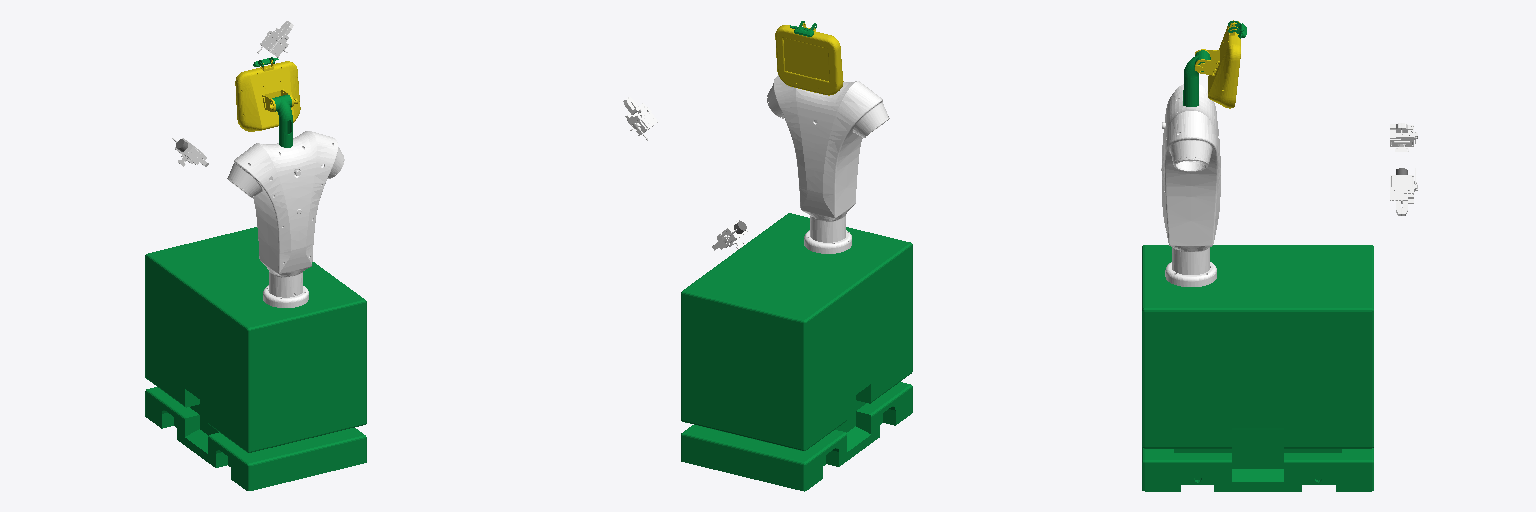
--- What the picture shows (computed from the rendered views, not written in the file) ---
3 views of the same robot in one strip: view 1: azimuth 30°, elevation 25°; view 2: azimuth 150°, elevation 25°; view 3: azimuth 270°, elevation 25° (orthographic).
Model ur5e_robot with 47 links and 46 joints (12 revolute, 4 prismatic, 30 fixed), rooted at world, posed every joint at zero.
Visible links, largest first — view 1: base_link, body_base_link, head_link, bozi_link; view 2: base_link, body_base_link, head_link; view 3: base_link, body_base_link, head_link, bozi_link, left_dh_base_link.
Boxes of the visible links, <box> form: base_link: <box>145,227,366,490</box>; body_base_link: <box>227,131,344,307</box>; head_link: <box>235,60,300,131</box>; bozi_link: <box>270,94,292,147</box>; base_link: <box>681,213,912,491</box>; body_base_link: <box>767,75,889,253</box>; head_link: <box>775,23,843,95</box>; base_link: <box>1142,245,1373,491</box>; body_base_link: <box>1161,84,1220,286</box>; head_link: <box>1195,20,1240,108</box>; bozi_link: <box>1183,50,1210,106</box>; left_dh_base_link: <box>1390,168,1417,198</box>.
Size in the robot's own frame: 0.8029 by 1.07 by 1.86 metres.
13 mesh visuals loaded from 16 distinct referenced files (9 binary STL); not drawn: 14 (reference not matched to a file when rendering).

The robot description file, URDF, robot "ur5e_robot":
<?xml version="1.0" ?>
<!-- =================================================================================== -->
<!-- |    This document was autogenerated by xacro from [local-path]/B_workspace/dual_robot/src/dual_arm/arm_robot/arm_robot_description/urdf/dual_arm_robot.xacro | -->
<!-- |    EDITING THIS FILE BY HAND IS NOT RECOMMENDED                                 | -->
<!-- =================================================================================== -->
<robot name="ur5e_robot">
    <material name="grey">
        <color rgba="0.5 0.5 0.5 1.0" />
    </material>
    <link name="world" />
    <link name="body_base_link">
        <inertial>
            <origin rpy="0 0 0" xyz="-1.72E-06 -0.00094189 0.44814" />
            <mass value="5.3997" />
            <inertia ixx="0.18584" ixy="-3.9082E-07" ixz="-1.5348E-07" iyy="0.24302" iyz="-4.7491E-05" izz="0.069032" />
        </inertial>
        <visual>
            <origin rpy="0 0 0" xyz="0 0 0" />
            <geometry>
                <mesh filename="package://ur_gazebo/meshes/body/body_link.STL" />
            </geometry>
            <material name="">
                <color rgba="1 1 1 1" />
            </material>
        </visual>
        <collision>
            <origin rpy="0 0 0" xyz="0 0 0" />
            <geometry>
                <mesh filename="package://ur_gazebo/meshes/body/body_link.STL" />
            </geometry>
        </collision>
    </link>
    <link name="body_right_base_link">
        <inertial>
            <origin rpy="0 0 0" xyz="1.446E-05 0.063848 -0.00090827" />
            <mass value="0.65565" />
            <inertia ixx="0.0011999" ixy="5.6587E-07" ixz="8.9252E-08" iyy="0.001589" iyz="-2.2042E-05" izz="0.001245" />
        </inertial>
        <!-- <visual>
      <origin
        xyz="0 0 0"
        rpy="0 0 0" />
      <geometry>
        <mesh
          filename="package://ur_gazebo/meshes/body/meshes/right_arm_fixed_link.STL" />
      </geometry>
      <material
        name="">
        <color
          rgba="1 1 1 1" />
      </material>
    </visual>
    <collision>
      <origin
        xyz="0 0 0"
        rpy="0 0 0" />
      <geometry>
        <mesh
          filename="package://ur_gazebo/meshes/body/meshes/right_arm_fixed_link.STL" />
      </geometry>
    </collision> -->
    </link>
    <joint name="right_arm_fixed_joint" type="fixed">
        <origin rpy="-0.95532 -0.5236 2.1863" xyz="-0.17475 0 0.64111" />
        <parent link="body_base_link" />
        <child link="body_right_base_link" />
        <axis xyz="0 0 0" />
    </joint>
    <link name="body_left_base_link">
        <inertial>
            <origin rpy="0 0 0" xyz="1.446E-05 0.053848 -0.00090827" />
            <mass value="0.65565" />
            <inertia ixx="0.0011999" ixy="5.6587E-07" ixz="8.9252E-08" iyy="0.001589" iyz="-2.2042E-05" izz="0.001245" />
        </inertial>
        <!-- <visual>
      <origin
        xyz="0 0 0"
        rpy="0 0 0" />
      <geometry>
        <mesh
          filename="package://ur_gazebo/meshes/body/meshes/left_arm_fixed_link.STL" />
      </geometry>
      <material
        name="">
        <color
          rgba="1 1 1 1" />
      </material>
    </visual>
    <collision>
      <origin
        xyz="0 0 0"
        rpy="0 0 0" />
      <geometry>
        <mesh
          filename="package://ur_gazebo/meshes/body/meshes/left_arm_fixed_link.STL" />
      </geometry>
    </collision> -->
    </link>
    <joint name="left_arm_fixed_joint" type="fixed">
        <origin rpy="-0.95532 0.5236 -2.1863" xyz="0.18182 0 0.63404" />
        <parent link="body_base_link" />
        <child link="body_left_base_link" />
        <axis xyz="0 0 0" />
    </joint>
    <link name="bozi_link">
        <inertial>
            <origin rpy="0 0 0" xyz="-0.02368 -0.062099 -0.0468" />
            <mass value="0.5717" />
            <inertia ixx="0.0043319" ixy="-0.0007239" ixz="-3.3674E-09" iyy="0.00074141" iyz="2.8419E-09" izz="0.0044017" />
        </inertial>
        <visual>
            <origin rpy="0 0 0" xyz="0 0 0" />
            <geometry>
                <mesh filename="package://ur_gazebo/meshes/body/bozi_link.STL" />
            </geometry>
            <material name="">
                <color rgba="0.066667 0.6 0.29804 1" />
            </material>
        </visual>
        <collision>
            <origin rpy="0 0 0" xyz="0 0 0" />
            <geometry>
                <mesh filename="package://ur_gazebo/meshes/body/bozi_link.STL" />
            </geometry>
        </collision>
    </link>
    <joint name="bozi_joint" type="fixed">
        <origin rpy="1.5708 0 -1.5708" xyz="-0.0468 -0.045 0.91925" />
        <parent link="body_base_link" />
        <child link="bozi_link" />
        <axis xyz="0 0 0" />
    </joint>
    <joint name="body_base_joint" type="fixed">
        <parent link="world" />
        <child link="body_base_link" />
        <origin rpy="0 0 3.1415926" xyz="0 0 0" />
        <axis xyz="0 0 0" />
    </joint>
    <!-- 对于底座的描述 -->
    <link name="base_link">
        <inertial>
            <origin rpy="0 0 0" xyz="-1.4069E-17 0 0.40258" />
            <mass value="400.99" />
            <inertia ixx="46.843" ixy="-1.8381E-16" ixz="-1.5044E-15" iyy="31.456" iyz="2.1237E-15" izz="38.411" />
        </inertial>
        <visual>
            <origin rpy="0 0 0" xyz="0 0 0" />
            <geometry>
                <mesh filename="package://ur_gazebo/meshes/base/base_link.STL" />
            </geometry>
            <material name="">
                <color rgba="0.066667 0.6 0.29804 1" />
            </material>
        </visual>
        <collision>
            <origin rpy="0 0 0" xyz="0 0 0" />
            <geometry>
                <mesh filename="package://ur_gazebo/meshes/base/base_link.STL" />
            </geometry>
        </collision>
    </link>
    <!-- ################################### -->
    <joint name="base_joint" type="fixed">
        <parent link="world" />
        <child link="base_link" />
        <origin rpy="0.0 0.0 0.0" xyz="0 0.26 -0.78" />
    </joint>
    <link name="head_link">
        <inertial>
            <origin rpy="0 0 0" xyz="0.10509 0.0025699 -0.046837" />
            <mass value="2.8418" />
            <inertia ixx="0.02624" ixy="-0.00030059" ixz="-2.3615E-08" iyy="0.016373" iyz="4.8178E-07" izz="0.011367" />
        </inertial>
        <visual>
            <origin rpy="0 0 0" xyz="0 0 0" />
            <geometry>
                <mesh filename="package://ur_gazebo/meshes/head/head_link.STL" />
            </geometry>
            <material name="">
                <color rgba="0.89804 0.82745 0.11765 1" />
            </material>
        </visual>
        <collision>
            <origin rpy="0 0 0" xyz="0 0 0" />
            <geometry>
                <mesh filename="package://ur_gazebo/meshes/head/head_link.STL" />
            </geometry>
        </collision>
    </link>
    <link name="camera_fixed_link">
        <inertial>
            <origin rpy="0 0 0" xyz="0.00017347 0.027417 0.04176" />
            <mass value="0.057939" />
            <inertia ixx="3.4645E-05" ixy="1.3474E-09" ixz="4.6377E-07" iyy="6.3455E-06" iyz="4.0965E-07" izz="3.348E-05" />
        </inertial>
        <visual>
            <origin rpy="0 0 0" xyz="0 0 0" />
            <geometry>
                <mesh filename="package://ur_gazebo/meshes/head/camera_fixed_link.STL" />
            </geometry>
            <material name="">
                <color rgba="0.066667 0.6 0.29804 1" />
            </material>
        </visual>
        <collision>
            <origin rpy="0 0 0" xyz="0 0 0" />
            <geometry>
                <mesh filename="package://ur_gazebo/meshes/head/camera_fixed_link.STL" />
            </geometry>
        </collision>
    </link>
    <joint name="camera_fixed_joint" type="fixed">
        <origin rpy="-1.5708 0 -2.0943951" xyz="0.10034 0.16948 -0.0168" />
        <parent link="head_link" />
        <child link="camera_fixed_link" />
        <axis xyz="0 0 0" />
    </joint>
    <joint name="head_body_joint" type="fixed">
        <parent link="bozi_link" />
        <child link="head_link" />
        <origin rpy="0 0 -0.1" xyz="0 0 0" />
        <axis xyz="0 0 0" />
    </joint>
    <!-- 右机械臂 -->
    <link name="right_correct_link" />
    <joint name="right_correct_joint" type="fixed">
        <parent link="body_right_base_link" />
        <child link="right_correct_link" />
        <origin rpy="-1.5707963 -2.35619448975 0.0" xyz="0 0 0" />
        <!-- <origin xyz="0 0 0" rpy="-1.5707963 2.35619448975 0.0" /> -->
    </joint>
    <!--
    Base UR robot series xacro macro.

    NOTE: this is NOT a URDF. It cannot directly be loaded by consumers
    expecting a flattened '.urdf' file. See the top-level '.xacro' for that
    (but note: that .xacro must still be processed by the xacro command).

    For use in '.launch' files: use one of the 'load_urX.launch' convenience
    launch files.

    This file models the base kinematic chain of a UR robot, which then gets
    parameterised by various configuration files to convert it into a UR3(e),
    UR5(e), UR10(e) or UR16e.

    NOTE: the default kinematic parameters (ie: link lengths, frame locations,
    offets, etc) do not correspond to any particular robot. They are defaults
    only. There WILL be non-zero offsets between the Forward Kinematics results
    in TF (ie: robot_state_publisher) and the values reported by the Teach
    Pendant.

    For accurate (and robot-specific) transforms, the 'kinematics_parameters_file'
    parameter MUST point to a .yaml file containing the appropriate values for
    the targetted robot.

    If using the UniversalRobots/Universal_Robots_ROS_Driver, follow the steps
    described in the readme of that repository to extract the kinematic
    calibration from the controller and generate the required .yaml file.

    Main author of the migration to yaml configs: Ludovic Delval.

    Contributors to previous versions (in no particular order):

     - Felix Messmer
     - Kelsey Hawkins
     - Wim Meeussen
     - Shaun Edwards
     - Nadia Hammoudeh Garcia
     - Dave Hershberger
     - G. vd. Hoorn
     - Philip Long
     - Dave Coleman
     - Miguel Prada
     - Mathias Luedtke
     - Marcel Schnirring
     - Felix von Drigalski
     - Felix Exner
     - Jimmy Da Silva
     - Ajit Krisshna N L
     - Muhammad Asif Rana
  -->
    <!--
    NOTE: the macro defined in this file is NOT part of the public API of this
          package. Users CANNOT rely on this file being available, or stored in
          this location. Nor can they rely on the existence of the macro.
  -->
    <transmission name="right_shoulder_pan_trans">
        <type>transmission_interface/SimpleTransmission</type>
        <joint name="right_shoulder_pan_joint">
            <hardwareInterface>hardware_interface/PositionJointInterface</hardwareInterface>
        </joint>
        <actuator name="right_shoulder_pan_motor">
            <mechanicalReduction>1</mechanicalReduction>
            <hardwareInterface>hardware_interface/EffortJointInterface</hardwareInterface>
        </actuator>
    </transmission>
    <transmission name="right_shoulder_lift_trans">
        <type>transmission_interface/SimpleTransmission</type>
        <joint name="right_shoulder_lift_joint">
            <hardwareInterface>hardware_interface/PositionJointInterface</hardwareInterface>
        </joint>
        <actuator name="right_shoulder_lift_motor">
            <mechanicalReduction>1</mechanicalReduction>
            <hardwareInterface>hardware_interface/EffortJointInterface</hardwareInterface>
        </actuator>
    </transmission>
    <transmission name="right_elbow_trans">
        <type>transmission_interface/SimpleTransmission</type>
        <joint name="right_elbow_joint">
            <hardwareInterface>hardware_interface/PositionJointInterface</hardwareInterface>
        </joint>
        <actuator name="right_elbow_motor">
            <mechanicalReduction>1</mechanicalReduction>
            <hardwareInterface>hardware_interface/EffortJointInterface</hardwareInterface>
        </actuator>
    </transmission>
    <transmission name="right_wrist_1_trans">
        <type>transmission_interface/SimpleTransmission</type>
        <joint name="right_wrist_1_joint">
            <hardwareInterface>hardware_interface/PositionJointInterface</hardwareInterface>
        </joint>
        <actuator name="right_wrist_1_motor">
            <mechanicalReduction>1</mechanicalReduction>
            <hardwareInterface>hardware_interface/EffortJointInterface</hardwareInterface>
        </actuator>
    </transmission>
    <transmission name="right_wrist_2_trans">
        <type>transmission_interface/SimpleTransmission</type>
        <joint name="right_wrist_2_joint">
            <hardwareInterface>hardware_interface/PositionJointInterface</hardwareInterface>
        </joint>
        <actuator name="right_wrist_2_motor">
            <mechanicalReduction>1</mechanicalReduction>
            <hardwareInterface>hardware_interface/EffortJointInterface</hardwareInterface>
        </actuator>
    </transmission>
    <transmission name="right_wrist_3_trans">
        <type>transmission_interface/SimpleTransmission</type>
        <joint name="right_wrist_3_joint">
            <hardwareInterface>hardware_interface/PositionJointInterface</hardwareInterface>
        </joint>
        <actuator name="right_wrist_3_motor">
            <mechanicalReduction>1</mechanicalReduction>
            <hardwareInterface>hardware_interface/EffortJointInterface</hardwareInterface>
        </actuator>
    </transmission>
    <!-- links: main serial chain -->
    <link name="right_base_link" />
    <link name="right_base_link_inertia">
        <visual>
            <origin rpy="0 0 3.141592653589793" xyz="0 0 0" />
            <geometry>
                <mesh filename="package://arm_robot_description/meshes/ur5e/visual/base.dae" />
            </geometry>
            <material name="LightGrey">
                <color rgba="0.7 0.7 0.7 1.0" />
            </material>
        </visual>
        <collision>
            <origin rpy="0 0 3.141592653589793" xyz="0 0 0" />
            <geometry>
                <mesh filename="package://arm_robot_description/meshes/ur5e/collision/base.stl" />
            </geometry>
        </collision>
        <inertial>
            <mass value="4.0" />
            <origin rpy="0 0 0" xyz="0 0 0" />
            <inertia ixx="0.00443333156" ixy="0.0" ixz="0.0" iyy="0.00443333156" iyz="0.0" izz="0.0072" />
        </inertial>
    </link>
    <link name="right_shoulder_link">
        <visual>
            <origin rpy="0 0 3.141592653589793" xyz="0 0 0" />
            <geometry>
                <mesh filename="package://arm_robot_description/meshes/ur5e/visual/shoulder.dae" />
            </geometry>
            <material name="LightGrey">
                <color rgba="0.7 0.7 0.7 1.0" />
            </material>
        </visual>
        <collision>
            <origin rpy="0 0 3.141592653589793" xyz="0 0 0" />
            <geometry>
                <mesh filename="package://arm_robot_description/meshes/ur5e/collision/shoulder.stl" />
            </geometry>
        </collision>
        <inertial>
            <mass value="3.7" />
            <origin rpy="0 0 0" xyz="0 0 0" />
            <inertia ixx="0.010267495893" ixy="0.0" ixz="0.0" iyy="0.010267495893" iyz="0.0" izz="0.00666" />
        </inertial>
    </link>
    <link name="right_upper_arm_link">
        <visual>
            <origin rpy="1.5707963267948966 0 -1.5707963267948966" xyz="0 0 0.138" />
            <geometry>
                <mesh filename="package://arm_robot_description/meshes/ur5e/visual/upperarm.dae" />
            </geometry>
            <material name="LightGrey">
                <color rgba="0.7 0.7 0.7 1.0" />
            </material>
        </visual>
        <collision>
            <origin rpy="1.5707963267948966 0 -1.5707963267948966" xyz="0 0 0.138" />
            <geometry>
                <mesh filename="package://arm_robot_description/meshes/ur5e/collision/upperarm.stl" />
            </geometry>
        </collision>
        <inertial>
            <mass value="8.393" />
            <origin rpy="0 1.5707963267948966 0" xyz="-0.2125 0.0 0.138" />
            <inertia ixx="0.1338857818623325" ixy="0.0" ixz="0.0" iyy="0.1338857818623325" iyz="0.0" izz="0.0151074" />
        </inertial>
    </link>
    <link name="right_forearm_link">
        <visual>
            <origin rpy="1.5707963267948966 0 -1.5707963267948966" xyz="0 0 0.007" />
            <geometry>
                <mesh filename="package://arm_robot_description/meshes/ur5e/visual/forearm.dae" />
            </geometry>
            <material name="LightGrey">
                <color rgba="0.7 0.7 0.7 1.0" />
            </material>
        </visual>
        <collision>
            <origin rpy="1.5707963267948966 0 -1.5707963267948966" xyz="0 0 0.007" />
            <geometry>
                <mesh filename="package://arm_robot_description/meshes/ur5e/collision/forearm.stl" />
            </geometry>
        </collision>
        <inertial>
            <mass value="2.275" />
            <origin rpy="0 1.5707963267948966 0" xyz="-0.1961 0.0 0.007" />
            <inertia ixx="0.031209355099586295" ixy="0.0" ixz="0.0" iyy="0.031209355099586295" iyz="0.0" izz="0.004095" />
        </inertial>
    </link>
    <link name="right_wrist_1_link">
        <visual>
            <!-- TODO: Move this to a parameter -->
            <origin rpy="1.5707963267948966 0 0" xyz="0 0 -0.127" />
            <geometry>
                <mesh filename="package://arm_robot_description/meshes/ur5e/visual/wrist1.dae" />
            </geometry>
            <material name="LightGrey">
                <color rgba="0.7 0.7 0.7 1.0" />
            </material>
        </visual>
        <collision>
            <origin rpy="1.5707963267948966 0 0" xyz="0 0 -0.127" />
            <geometry>
                <mesh filename="package://arm_robot_description/meshes/ur5e/collision/wrist1.stl" />
            </geometry>
        </collision>
        <inertial>
            <mass value="1.219" />
            <origin rpy="0 0 0" xyz="0 0 0" />
            <inertia ixx="0.0025598989760400002" ixy="0.0" ixz="0.0" iyy="0.0025598989760400002" iyz="0.0" izz="0.0021942" />
        </inertial>
    </link>
    <link name="right_wrist_2_link">
        <visual>
            <origin rpy="0 0 0" xyz="0 0 -0.0997" />
            <geometry>
                <mesh filename="package://arm_robot_description/meshes/ur5e/visual/wrist2.dae" />
            </geometry>
            <material name="LightGrey">
                <color rgba="0.7 0.7 0.7 1.0" />
            </material>
        </visual>
        <collision>
            <origin rpy="0 0 0" xyz="0 0 -0.0997" />
            <geometry>
                <mesh filename="package://arm_robot_description/meshes/ur5e/collision/wrist2.stl" />
            </geometry>
        </collision>
        <inertial>
            <mass value="1.219" />
            <origin rpy="0 0 0" xyz="0 0 0" />
            <inertia ixx="0.0025598989760400002" ixy="0.0" ixz="0.0" iyy="0.0025598989760400002" iyz="0.0" izz="0.0021942" />
        </inertial>
    </link>
    <link name="right_wrist_3_link">
        <visual>
            <origin rpy="1.5707963267948966 0 0" xyz="0 0 -0.0989" />
            <geometry>
                <mesh filename="package://arm_robot_description/meshes/ur5e/visual/wrist3.dae" />
            </geometry>
            <material name="LightGrey">
                <color rgba="0.7 0.7 0.7 1.0" />
            </material>
        </visual>
        <collision>
            <origin rpy="1.5707963267948966 0 0" xyz="0 0 -0.0989" />
            <geometry>
                <mesh filename="package://arm_robot_description/meshes/ur5e/collision/wrist3.stl" />
            </geometry>
        </collision>
        <inertial>
            <mass value="0.1879" />
            <origin rpy="0 0 0" xyz="0.0 0.0 -0.0229" />
            <inertia ixx="9.890410052167731e-05" ixy="0.0" ixz="0.0" iyy="9.890410052167731e-05" iyz="0.0" izz="0.0001321171875" />
        </inertial>
    </link>
    <!-- joints: main serial chain -->
    <joint name="right_base_link-base_link_inertia" type="fixed">
        <parent link="right_base_link" />
        <child link="right_base_link_inertia" />
        <!-- 'base_link' is REP-103 aligned (so X+ forward), while the internal
           frames of the robot/controller have X+ pointing backwards.
           Use the joint between 'base_link' and 'base_link_inertia' (a dummy
           link/frame) to introduce the necessary rotation over Z (of pi rad).
      -->
        <origin rpy="0 0 3.141592653589793" xyz="0 0 0" />
    </joint>
    <joint name="right_shoulder_pan_joint" type="revolute">
        <parent link="right_base_link_inertia" />
        <child link="right_shoulder_link" />
        <origin rpy="0 0 5.921646436743422e-08" xyz="0 0 0.1627297657342701" />
        <axis xyz="0 0 1" />
        <limit effort="150.0" lower="-6.283185307179586" upper="6.283185307179586" velocity="3.141592653589793" />
        <dynamics damping="0" friction="0" />
    </joint>
    <joint name="right_shoulder_lift_joint" type="revolute">
        <parent link="right_shoulder_link" />
        <child link="right_upper_arm_link" />
        <origin rpy="1.571350908778415 0 -3.085572842734852e-06" xyz="0.0001588353640365326 0 0" />
        <axis xyz="0 0 1" />
        <limit effort="150.0" lower="-6.283185307179586" upper="6.283185307179586" velocity="3.141592653589793" />
        <dynamics damping="0" friction="0" />
    </joint>
    <joint name="right_elbow_joint" type="revolute">
        <parent link="right_upper_arm_link" />
        <child link="right_forearm_link" />
        <origin rpy="0.0003200011350069759 -0.0002227248904285447 -1.085352311177093e-06" xyz="-0.4251005603256471 0 0" />
        <axis xyz="0 0 1" />
        <limit effort="150.0" lower="-3.141592653589793" upper="3.141592653589793" velocity="3.141592653589793" />
        <dynamics damping="0" friction="0" />
    </joint>
    <joint name="right_wrist_1_joint" type="revolute">
        <parent link="right_forearm_link" />
        <child link="right_wrist_1_link" />
        <origin rpy="0.007922150818238065 0.0001913312126438064 -2.456957013920244e-06" xyz="-0.3922314444721665 -0.001059811827050482 0.1337754960543269" />
        <axis xyz="0 0 1" />
        <limit effort="28.0" lower="-6.283185307179586" upper="6.283185307179586" velocity="3.141592653589793" />
        <dynamics damping="0" friction="0" />
    </joint>
    <joint name="right_wrist_2_joint" type="revolute">
        <parent link="right_wrist_1_link" />
        <child link="right_wrist_2_link" />
        <origin rpy="1.569787769915148 0 4.196170326140058e-08" xyz="-8.543141610977271e-05 -0.09959947723388803 0.0001004517720430495" />
        <axis xyz="0 0 1" />
        <limit effort="28.0" lower="-6.283185307179586" upper="6.283185307179586" velocity="3.141592653589793" />
        <dynamics damping="0" friction="0" />
    </joint>
    <joint name="right_wrist_3_joint" type="revolute">
        <parent link="right_wrist_2_link" />
        <child link="right_wrist_3_link" />
        <origin rpy="1.570601435882507 3.141592653589793 3.141592438200498" xyz="7.159022188747432e-05 0.09955984828462842 -1.940330991524593e-05" />
        <axis xyz="0 0 1" />
        <limit effort="28.0" lower="-6.283185307179586" upper="6.283185307179586" velocity="3.141592653589793" />
        <dynamics damping="0" friction="0" />
    </joint>
    <!-- ROS-Industrial 'base' frame: base_link to UR 'Base' Coordinates transform -->
    <link name="right_base" />
    <joint name="right_base_link-base_fixed_joint" type="fixed">
        <!-- Note the rotation over Z of pi radians: as base_link is REP-103
           aligned (ie: has X+ forward, Y+ left and Z+ up), this is needed
           to correctly align 'base' with the 'Base' coordinate system of
           the UR controller.
      -->
        <origin rpy="0 0 3.141592653589793" xyz="0 0 0" />
        <parent link="right_base_link" />
        <child link="right_base" />
    </joint>
    <!-- ROS-Industrial 'flange' frame: attachment point for EEF models -->
    <link name="right_flange" />
    <joint name="right_wrist_3-flange" type="fixed">
        <parent link="right_wrist_3_link" />
        <child link="right_flange" />
        <origin rpy="0 -1.5707963267948966 -1.5707963267948966" xyz="0 0 0" />
    </joint>
    <!-- ROS-Industrial 'tool0' frame: all-zeros tool frame -->
    <link name="right_tool0" />
    <joint name="right_flange-tool0" type="fixed">
        <!-- default toolframe: X+ left, Y+ up, Z+ front -->
        <origin rpy="1.5707963267948966 0 1.5707963267948966" xyz="0.0 0 0" />
        <parent link="right_flange" />
        <child link="right_tool0" />
    </joint>
    <joint name="right_virtual_fixed" type="fixed">
        <parent link="right_correct_link" />
        <child link="right_base_link" />
        <!-- 虚拟关节修正 -->
        <origin rpy="0.0 0.0 0.0" xyz="0.0 0.0 0.0" />
    </joint>
    <!-- 左机械臂 -->
    <link name="left_correct_link" />
    <joint name="left_correct_joint" type="fixed">
        <parent link="body_left_base_link" />
        <child link="left_correct_link" />
        <origin rpy="-1.5707963 -0.7853977 0.0" xyz="0 0 0" />
        <!-- <origin xyz="0 0 0" rpy="-1.5707963 -2.35619448975 0.0" /> -->
    </joint>
    <!--
    Base UR robot series xacro macro.

    NOTE: this is NOT a URDF. It cannot directly be loaded by consumers
    expecting a flattened '.urdf' file. See the top-level '.xacro' for that
    (but note: that .xacro must still be processed by the xacro command).

    For use in '.launch' files: use one of the 'load_urX.launch' convenience
    launch files.

    This file models the base kinematic chain of a UR robot, which then gets
    parameterised by various configuration files to convert it into a UR3(e),
    UR5(e), UR10(e) or UR16e.

    NOTE: the default kinematic parameters (ie: link lengths, frame locations,
    offets, etc) do not correspond to any particular robot. They are defaults
    only. There WILL be non-zero offsets between the Forward Kinematics results
    in TF (ie: robot_state_publisher) and the values reported by the Teach
    Pendant.

    For accurate (and robot-specific) transforms, the 'kinematics_parameters_file'
    parameter MUST point to a .yaml file containing the appropriate values for
    the targetted robot.

    If using the UniversalRobots/Universal_Robots_ROS_Driver, follow the steps
    described in the readme of that repository to extract the kinematic
    calibration from the controller and generate the required .yaml file.

    Main author of the migration to yaml configs: Ludovic Delval.

    Contributors to previous versions (in no particular order):

     - Felix Messmer
     - Kelsey Hawkins
     - Wim Meeussen
     - Shaun Edwards
     - Nadia Hammoudeh Garcia
     - Dave Hershberger
     - G. vd. Hoorn
     - Philip Long
     - Dave Coleman
     - Miguel Prada
     - Mathias Luedtke
     - Marcel Schnirring
     - Felix von Drigalski
     - Felix Exner
     - Jimmy Da Silva
     - Ajit Krisshna N L
     - Muhammad Asif Rana
  -->
    <!--
    NOTE: the macro defined in this file is NOT part of the public API of this
          package. Users CANNOT rely on this file being available, or stored in
          this location. Nor can they rely on the existence of the macro.
  -->
    <transmission name="left_shoulder_pan_trans">
        <type>transmission_interface/SimpleTransmission</type>
        <joint name="left_shoulder_pan_joint">
            <hardwareInterface>hardware_interface/PositionJointInterface</hardwareInterface>
        </joint>
        <actuator name="left_shoulder_pan_motor">
            <mechanicalReduction>1</mechanicalReduction>
            <hardwareInterface>hardware_interface/EffortJointInterface</hardwareInterface>
        </actuator>
    </transmission>
    <transmission name="left_shoulder_lift_trans">
        <type>transmission_interface/SimpleTransmission</type>
        <joint name="left_shoulder_lift_joint">
            <hardwareInterface>hardware_interface/PositionJointInterface</hardwareInterface>
        </joint>
        <actuator name="left_shoulder_lift_motor">
            <mechanicalReduction>1</mechanicalReduction>
            <hardwareInterface>hardware_interface/EffortJointInterface</hardwareInterface>
        </actuator>
    </transmission>
    <transmission name="left_elbow_trans">
        <type>transmission_interface/SimpleTransmission</type>
        <joint name="left_elbow_joint">
            <hardwareInterface>hardware_interface/PositionJointInterface</hardwareInterface>
        </joint>
        <actuator name="left_elbow_motor">
            <mechanicalReduction>1</mechanicalReduction>
            <hardwareInterface>hardware_interface/EffortJointInterface</hardwareInterface>
        </actuator>
    </transmission>
    <transmission name="left_wrist_1_trans">
        <type>transmission_interface/SimpleTransmission</type>
        <joint name="left_wrist_1_joint">
            <hardwareInterface>hardware_interface/PositionJointInterface</hardwareInterface>
        </joint>
        <actuator name="left_wrist_1_motor">
            <mechanicalReduction>1</mechanicalReduction>
            <hardwareInterface>hardware_interface/EffortJointInterface</hardwareInterface>
        </actuator>
    </transmission>
    <transmission name="left_wrist_2_trans">
        <type>transmission_interface/SimpleTransmission</type>
        <joint name="left_wrist_2_joint">
            <hardwareInterface>hardware_interface/PositionJointInterface</hardwareInterface>
        </joint>
        <actuator name="left_wrist_2_motor">
            <mechanicalReduction>1</mechanicalReduction>
            <hardwareInterface>hardware_interface/EffortJointInterface</hardwareInterface>
        </actuator>
    </transmission>
    <transmission name="left_wrist_3_trans">
        <type>transmission_interface/SimpleTransmission</type>
        <joint name="left_wrist_3_joint">
            <hardwareInterface>hardware_interface/PositionJointInterface</hardwareInterface>
        </joint>
        <actuator name="left_wrist_3_motor">
            <mechanicalReduction>1</mechanicalReduction>
            <hardwareInterface>hardware_interface/EffortJointInterface</hardwareInterface>
        </actuator>
    </transmission>
    <!-- links: main serial chain -->
    <link name="left_base_link" />
    <link name="left_base_link_inertia">
        <visual>
            <origin rpy="0 0 3.141592653589793" xyz="0 0 0" />
            <geometry>
                <mesh filename="package://arm_robot_description/meshes/ur5e/visual/base.dae" />
            </geometry>
            <material name="LightGrey">
                <color rgba="0.7 0.7 0.7 1.0" />
            </material>
        </visual>
        <collision>
            <origin rpy="0 0 3.141592653589793" xyz="0 0 0" />
            <geometry>
                <mesh filename="package://arm_robot_description/meshes/ur5e/collision/base.stl" />
            </geometry>
        </collision>
        <inertial>
            <mass value="4.0" />
            <origin rpy="0 0 0" xyz="0 0 0" />
            <inertia ixx="0.00443333156" ixy="0.0" ixz="0.0" iyy="0.00443333156" iyz="0.0" izz="0.0072" />
        </inertial>
    </link>
    <link name="left_shoulder_link">
        <visual>
            <origin rpy="0 0 3.141592653589793" xyz="0 0 0" />
            <geometry>
                <mesh filename="package://arm_robot_description/meshes/ur5e/visual/shoulder.dae" />
            </geometry>
            <material name="LightGrey">
                <color rgba="0.7 0.7 0.7 1.0" />
            </material>
        </visual>
        <collision>
            <origin rpy="0 0 3.141592653589793" xyz="0 0 0" />
            <geometry>
                <mesh filename="package://arm_robot_description/meshes/ur5e/collision/shoulder.stl" />
            </geometry>
        </collision>
        <inertial>
            <mass value="3.7" />
            <origin rpy="0 0 0" xyz="0 0 0" />
            <inertia ixx="0.010267495893" ixy="0.0" ixz="0.0" iyy="0.010267495893" iyz="0.0" izz="0.00666" />
        </inertial>
    </link>
    <link name="left_upper_arm_link">
        <visual>
            <origin rpy="1.5707963267948966 0 -1.5707963267948966" xyz="0 0 0.138" />
            <geometry>
                <mesh filename="package://arm_robot_description/meshes/ur5e/visual/upperarm.dae" />
            </geometry>
            <material name="LightGrey">
                <color rgba="0.7 0.7 0.7 1.0" />
            </material>
        </visual>
        <collision>
            <origin rpy="1.5707963267948966 0 -1.5707963267948966" xyz="0 0 0.138" />
            <geometry>
                <mesh filename="package://arm_robot_description/meshes/ur5e/collision/upperarm.stl" />
            </geometry>
        </collision>
        <inertial>
            <mass value="8.393" />
            <origin rpy="0 1.5707963267948966 0" xyz="-0.2125 0.0 0.138" />
            <inertia ixx="0.1338857818623325" ixy="0.0" ixz="0.0" iyy="0.1338857818623325" iyz="0.0" izz="0.0151074" />
        </inertial>
    </link>
    <link name="left_forearm_link">
        <visual>
            <origin rpy="1.5707963267948966 0 -1.5707963267948966" xyz="0 0 0.007" />
            <geometry>
                <mesh filename="package://arm_robot_description/meshes/ur5e/visual/forearm.dae" />
            </geometry>
            <material name="LightGrey">
                <color rgba="0.7 0.7 0.7 1.0" />
            </material>
        </visual>
        <collision>
            <origin rpy="1.5707963267948966 0 -1.5707963267948966" xyz="0 0 0.007" />
            <geometry>
                <mesh filename="package://arm_robot_description/meshes/ur5e/collision/forearm.stl" />
            </geometry>
        </collision>
        <inertial>
            <mass value="2.275" />
            <origin rpy="0 1.5707963267948966 0" xyz="-0.1961 0.0 0.007" />
            <inertia ixx="0.031209355099586295" ixy="0.0" ixz="0.0" iyy="0.031209355099586295" iyz="0.0" izz="0.004095" />
        </inertial>
    </link>
    <link name="left_wrist_1_link">
        <visual>
            <!-- TODO: Move this to a parameter -->
            <origin rpy="1.5707963267948966 0 0" xyz="0 0 -0.127" />
            <geometry>
                <mesh filename="package://arm_robot_description/meshes/ur5e/visual/wrist1.dae" />
            </geometry>
            <material name="LightGrey">
                <color rgba="0.7 0.7 0.7 1.0" />
            </material>
        </visual>
        <collision>
            <origin rpy="1.5707963267948966 0 0" xyz="0 0 -0.127" />
            <geometry>
                <mesh filename="package://arm_robot_description/meshes/ur5e/collision/wrist1.stl" />
            </geometry>
        </collision>
        <inertial>
            <mass value="1.219" />
            <origin rpy="0 0 0" xyz="0 0 0" />
            <inertia ixx="0.0025598989760400002" ixy="0.0" ixz="0.0" iyy="0.0025598989760400002" iyz="0.0" izz="0.0021942" />
        </inertial>
    </link>
    <link name="left_wrist_2_link">
        <visual>
            <origin rpy="0 0 0" xyz="0 0 -0.0997" />
            <geometry>
                <mesh filename="package://arm_robot_description/meshes/ur5e/visual/wrist2.dae" />
            </geometry>
            <material name="LightGrey">
                <color rgba="0.7 0.7 0.7 1.0" />
            </material>
        </visual>
        <collision>
            <origin rpy="0 0 0" xyz="0 0 -0.0997" />
            <geometry>
                <mesh filename="package://arm_robot_description/meshes/ur5e/collision/wrist2.stl" />
            </geometry>
        </collision>
        <inertial>
            <mass value="1.219" />
            <origin rpy="0 0 0" xyz="0 0 0" />
            <inertia ixx="0.0025598989760400002" ixy="0.0" ixz="0.0" iyy="0.0025598989760400002" iyz="0.0" izz="0.0021942" />
        </inertial>
    </link>
    <link name="left_wrist_3_link">
        <visual>
            <origin rpy="1.5707963267948966 0 0" xyz="0 0 -0.0989" />
            <geometry>
                <mesh filename="package://arm_robot_description/meshes/ur5e/visual/wrist3.dae" />
            </geometry>
            <material name="LightGrey">
                <color rgba="0.7 0.7 0.7 1.0" />
            </material>
        </visual>
        <collision>
            <origin rpy="1.5707963267948966 0 0" xyz="0 0 -0.0989" />
            <geometry>
                <mesh filename="package://arm_robot_description/meshes/ur5e/collision/wrist3.stl" />
            </geometry>
        </collision>
        <inertial>
            <mass value="0.1879" />
            <origin rpy="0 0 0" xyz="0.0 0.0 -0.0229" />
            <inertia ixx="9.890410052167731e-05" ixy="0.0" ixz="0.0" iyy="9.890410052167731e-05" iyz="0.0" izz="0.0001321171875" />
        </inertial>
    </link>
    <!-- joints: main serial chain -->
    <joint name="left_base_link-base_link_inertia" type="fixed">
        <parent link="left_base_link" />
        <child link="left_base_link_inertia" />
        <!-- 'base_link' is REP-103 aligned (so X+ forward), while the internal
           frames of the robot/controller have X+ pointing backwards.
           Use the joint between 'base_link' and 'base_link_inertia' (a dummy
           link/frame) to introduce the necessary rotation over Z (of pi rad).
      -->
        <origin rpy="0 0 3.141592653589793" xyz="0 0 0" />
    </joint>
    <joint name="left_shoulder_pan_joint" type="revolute">
        <parent link="left_base_link_inertia" />
        <child link="left_shoulder_link" />
        <origin rpy="0 0 5.921646436743422e-08" xyz="0 0 0.1627297657342701" />
        <axis xyz="0 0 1" />
        <limit effort="150.0" lower="-6.283185307179586" upper="6.283185307179586" velocity="3.141592653589793" />
        <dynamics damping="0" friction="0" />
    </joint>
    <joint name="left_shoulder_lift_joint" type="revolute">
        <parent link="left_shoulder_link" />
        <child link="left_upper_arm_link" />
        <origin rpy="1.571350908778415 0 -3.085572842734852e-06" xyz="0.0001588353640365326 0 0" />
        <axis xyz="0 0 1" />
        <limit effort="150.0" lower="-6.283185307179586" upper="6.283185307179586" velocity="3.141592653589793" />
        <dynamics damping="0" friction="0" />
    </joint>
    <joint name="left_elbow_joint" type="revolute">
        <parent link="left_upper_arm_link" />
        <child link="left_forearm_link" />
        <origin rpy="0.0003200011350069759 -0.0002227248904285447 -1.085352311177093e-06" xyz="-0.4251005603256471 0 0" />
        <axis xyz="0 0 1" />
        <limit effort="150.0" lower="-3.141592653589793" upper="3.141592653589793" velocity="3.141592653589793" />
        <dynamics damping="0" friction="0" />
    </joint>
    <joint name="left_wrist_1_joint" type="revolute">
        <parent link="left_forearm_link" />
        <child link="left_wrist_1_link" />
        <origin rpy="0.007922150818238065 0.0001913312126438064 -2.456957013920244e-06" xyz="-0.3922314444721665 -0.001059811827050482 0.1337754960543269" />
        <axis xyz="0 0 1" />
        <limit effort="28.0" lower="-6.283185307179586" upper="6.283185307179586" velocity="3.141592653589793" />
        <dynamics damping="0" friction="0" />
    </joint>
    <joint name="left_wrist_2_joint" type="revolute">
        <parent link="left_wrist_1_link" />
        <child link="left_wrist_2_link" />
        <origin rpy="1.569787769915148 0 4.196170326140058e-08" xyz="-8.543141610977271e-05 -0.09959947723388803 0.0001004517720430495" />
        <axis xyz="0 0 1" />
        <limit effort="28.0" lower="-6.283185307179586" upper="6.283185307179586" velocity="3.141592653589793" />
        <dynamics damping="0" friction="0" />
    </joint>
    <joint name="left_wrist_3_joint" type="revolute">
        <parent link="left_wrist_2_link" />
        <child link="left_wrist_3_link" />
        <origin rpy="1.570601435882507 3.141592653589793 3.141592438200498" xyz="7.159022188747432e-05 0.09955984828462842 -1.940330991524593e-05" />
        <axis xyz="0 0 1" />
        <limit effort="28.0" lower="-6.283185307179586" upper="6.283185307179586" velocity="3.141592653589793" />
        <dynamics damping="0" friction="0" />
    </joint>
    <!-- ROS-Industrial 'base' frame: base_link to UR 'Base' Coordinates transform -->
    <link name="left_base" />
    <joint name="left_base_link-base_fixed_joint" type="fixed">
        <!-- Note the rotation over Z of pi radians: as base_link is REP-103
           aligned (ie: has X+ forward, Y+ left and Z+ up), this is needed
           to correctly align 'base' with the 'Base' coordinate system of
           the UR controller.
      -->
        <origin rpy="0 0 3.141592653589793" xyz="0 0 0" />
        <parent link="left_base_link" />
        <child link="left_base" />
    </joint>
    <!-- ROS-Industrial 'flange' frame: attachment point for EEF models -->
    <link name="left_flange" />
    <joint name="left_wrist_3-flange" type="fixed">
        <parent link="left_wrist_3_link" />
        <child link="left_flange" />
        <origin rpy="0 -1.5707963267948966 -1.5707963267948966" xyz="0 0 0" />
    </joint>
    <!-- ROS-Industrial 'tool0' frame: all-zeros tool frame -->
    <link name="left_tool0" />
    <joint name="left_flange-tool0" type="fixed">
        <!-- default toolframe: X+ left, Y+ up, Z+ front -->
        <origin rpy="1.5707963267948966 0 1.5707963267948966" xyz="0.0 0 0" />
        <parent link="left_flange" />
        <child link="left_tool0" />
    </joint>
    <joint name="left_virtual_fixed" type="fixed">
        <parent link="left_correct_link" />
        <child link="left_base_link" />
        <!-- 虚拟关节修正 -->
        <origin rpy="0.0 0.0 0.0" xyz="0.0 0.0 0.0" />
    </joint>
    <link name="right_dh_base_link">
        <inertial>
            <origin rpy="0 0 0" xyz="-2.97896383687117E-05 -0.00119414606853069 0.0383013066202999" />
            <mass value="0.407689241604604" />
            <inertia ixx="0.000382601149885368" ixy="-2.00188830802339E-08" ixz="-2.74934362808617E-08" iyy="0.000182283012175943" iyz="2.92748971762364E-07" izz="0.000433183926992861" />
        </inertial>
        <visual>
            <origin rpy="0 0 0" xyz="0 0 0" />
            <geometry>
                <mesh filename="package://ur_gazebo/meshes/dh_pgi/dh_base_link.STL" />
            </geometry>
            <material name="light_grey">
                <color rgba="1 1 1 1" />
            </material>
        </visual>
        <collision>
            <origin rpy="0 0 0" xyz="0 0 0" />
            <geometry>
                <mesh filename="package://ur_gazebo/meshes/dh_pgi/dh_base_link.STL" />
            </geometry>
        </collision>
    </link>
    <link name="right_dh_finger1_link">
        <inertial>
            <origin rpy="0 0 0" xyz="0.00194790394990391 0.00918650753677023 0.00947748977599767" />
            <mass value="0.0589543896992846" />
            <inertia ixx="2.37128965154064E-05" ixy="3.83269385718325E-06" ixz="4.94815116549899E-06" iyy="3.37272907966156E-05" iyz="-4.62772008724202E-06" izz="1.98369145830284E-05" />
        </inertial>
        <visual>
            <origin rpy="0 0 0" xyz="0 0 0" />
            <geometry>
                <mesh filename="package://ur_gazebo/meshes/dh_pgi/dh_finger1_link.STL" />
            </geometry>
            <material name="light_grey">
                <color rgba="1 1 1 1" />
            </material>
        </visual>
        <collision>
            <origin rpy="0 0 0" xyz="0 0 0" />
            <geometry>
                <mesh filename="package://ur_gazebo/meshes/dh_pgi/dh_finger1_link.STL" />
            </geometry>
        </collision>
    </link>
    <gazebo reference="right_dh_finger1_link">
        <implicitSpringDamper>1</implicitSpringDamper>
        <mu1>100000</mu1>
        <mu2>100000</mu2>
        <kp>100000000.0</kp>
        <kd>1.0</kd>
        <plugin name="gazebo_ros_control" filename="libgazebo_ros_control.so">
            <robotNamespace>/</robotNamespace>
        </plugin>
    </gazebo>
    <joint name="right_dh_base_finger1_joint" type="prismatic">
        <origin rpy="0 0 -1.5708" xyz="-0.0184 0.0 0.09325" />
        <parent link="right_dh_base_link" />
        <child link="right_dh_finger1_link" />
        <axis xyz="-1 0 0" />
        <limit effort="30" lower="0" upper="0.04" velocity="0.5" />
    </joint>
    <link name="right_dh_finger2_link">
        <inertial>
            <origin rpy="0 0 0" xyz="0.00194790394990389 0.00918650753677023 0.00947748977599765" />
            <mass value="0.0589543896992846" />
            <inertia ixx="2.37128965154064E-05" ixy="3.83269385718325E-06" ixz="4.94815116549898E-06" iyy="3.37272907966157E-05" iyz="-4.62772008724202E-06" izz="1.98369145830284E-05" />
        </inertial>
        <visual>
            <origin rpy="0 0 0" xyz="0 0 0" />
            <geometry>
                <mesh filename="package://ur_gazebo/meshes/dh_pgi/dh_finger2_link.STL" />
            </geometry>
            <material name="light_grey">
                <color rgba="1 1 1 1" />
            </material>
        </visual>
        <collision>
            <origin rpy="0 0 0" xyz="0 0 0" />
            <geometry>
                <mesh filename="package://ur_gazebo/meshes/dh_pgi/dh_finger2_link.STL" />
            </geometry>
        </collision>
    </link>
    <gazebo reference="right_dh_finger2_link">
        <implicitSpringDamper>1</implicitSpringDamper>
        <mu1>100000</mu1>
        <mu2>100000</mu2>
        <kp>100000000.0</kp>
        <kd>1.0</kd>
    </gazebo>
    <joint name="right_dh_base_finger2_joint" type="prismatic">
        <origin rpy="0 0 1.5708" xyz="0.0184 -0.0 0.09325" />
        <parent link="right_dh_base_link" />
        <child link="right_dh_finger2_link" />
        <axis xyz="-1 0 0" />
        <limit effort="20" lower="0" upper="0.04" velocity="0.5" />
        <mimic joint="right_dh_base_finger1_joint" multiplier="1" offset="0" />
    </joint>
    <link name="right_dh_center_link" />
    <joint name="right_dh_base_center_joint" type="fixed">
        <origin rpy="3.1416 -1.5708 0" xyz="0 0 0.14124" />
        <parent link="right_dh_base_link" />
        <child link="right_dh_center_link" />
        <axis xyz="0 0 0" />
    </joint>
    <link name="right_dh_load1_link" />
    <joint name="right_dh_base_load1_joint" type="fixed">
        <origin rpy="3.1416 -1.5708 0" xyz="-0.030325 0 0.0619" />
        <parent link="right_dh_base_link" />
        <child link="right_dh_load1_link" />
        <axis xyz="0 0 0" />
    </joint>
    <transmission name="right_dh_base_finger1_trans">
        <type>transmission_interface/SimpleTransmission</type>
        <joint name="right_dh_base_finger1_joint">
            <hardwareInterface>hardware_interface/PositionJointInterface</hardwareInterface>
        </joint>
        <actuator name="right_dh_base_finger1_motor">
            <mechanicalReduction>1</mechanicalReduction>
            <hardwareInterface>hardware_interface/PositionJointInterface</hardwareInterface>
        </actuator>
    </transmission>
    <!--libroboticsgroup_gazebo_mimic_joint_plugin.so loading plugin: mimic joints works in gazebo now  libroboticsgroup_upatras_gazebo_mimic_joint_plugin.so-->
    <gazebo>
        <plugin filename="libroboticsgroup_upatras_gazebo_mimic_joint_plugin.so" name="right_mimic_dh_robotics_ag95_1">
            <joint>right_dh_base_finger1_joint</joint>
            <mimicJoint>right_dh_base_finger2_joint</mimicJoint>
            <multiplier>1.0</multiplier>
            <offset>0.0</offset>
        </plugin>
    </gazebo>
    <!-- <gazebo>
        <plugin filename="libroboticsgroup_gazebo_mimic_joint_plugin.so" name="${prefix}mimic_dh_robotics_ag95_1">
            <joint>${prefix}dh_base_finger1_joint</joint>
            <mimicJoint>${prefix}dh_base_finger2_joint</mimicJoint>
            <multiplier>1.0</multiplier>
            <offset>0.0</offset>
        </plugin>
    </gazebo> -->
    <joint name="right_gripper_joint" type="fixed">
        <parent link="right_tool0" />
        <child link="right_dh_base_link" />
        <origin rpy="0 0 -1.5707963" xyz="0 0 0.006" />
    </joint>
    <link name="left_cylinder_link">
        <visual>
            <geometry>
                <cylinder length="0.03" radius="0.023" />
            </geometry>
            <origin rpy="0 0 0" xyz="0 0 0.015" />
            <material name="grey" />
        </visual>
        <collision>
            <geometry>
                <cylinder length="0.03" radius="0.023" />
            </geometry>
            <origin rpy="0 0 0" xyz="0 0 0.015" />
        </collision>
        <inertial>
            <mass value="0.1" />
            <origin xyz="0 0 0" rpy="0 0 0" />
            <inertia ixx="0.03" iyy="0.03" izz="0.03" ixy="0.0" ixz="0.0" iyz="0.0" />
        </inertial>
    </link>
    <!-- 定义圆柱连接到correct_link的关节 -->
    <joint name="left_cylinder_joint" type="fixed">
        <parent link="left_tool0" />
        <child link="left_cylinder_link" />
        <origin rpy="0 0 0" xyz="0 0 0" />
    </joint>
    <link name="left_dh_base_link">
        <inertial>
            <origin rpy="0 0 0" xyz="-2.97896383687117E-05 -0.00119414606853069 0.0383013066202999" />
            <mass value="0.407689241604604" />
            <inertia ixx="0.000382601149885368" ixy="-2.00188830802339E-08" ixz="-2.74934362808617E-08" iyy="0.000182283012175943" iyz="2.92748971762364E-07" izz="0.000433183926992861" />
        </inertial>
        <visual>
            <origin rpy="0 0 0" xyz="0 0 0" />
            <geometry>
                <mesh filename="package://ur_gazebo/meshes/dh_pgi/dh_base_link.STL" />
            </geometry>
            <material name="light_grey">
                <color rgba="1 1 1 1" />
            </material>
        </visual>
        <collision>
            <origin rpy="0 0 0" xyz="0 0 0" />
            <geometry>
                <mesh filename="package://ur_gazebo/meshes/dh_pgi/dh_base_link.STL" />
            </geometry>
        </collision>
    </link>
    <link name="left_dh_finger1_link">
        <inertial>
            <origin rpy="0 0 0" xyz="0.00194790394990391 0.00918650753677023 0.00947748977599767" />
            <mass value="0.0589543896992846" />
            <inertia ixx="2.37128965154064E-05" ixy="3.83269385718325E-06" ixz="4.94815116549899E-06" iyy="3.37272907966156E-05" iyz="-4.62772008724202E-06" izz="1.98369145830284E-05" />
        </inertial>
        <visual>
            <origin rpy="0 0 0" xyz="0 0 0" />
            <geometry>
                <mesh filename="package://ur_gazebo/meshes/dh_pgi/dh_finger1_link.STL" />
            </geometry>
            <material name="light_grey">
                <color rgba="1 1 1 1" />
            </material>
        </visual>
        <collision>
            <origin rpy="0 0 0" xyz="0 0 0" />
            <geometry>
                <mesh filename="package://ur_gazebo/meshes/dh_pgi/dh_finger1_link.STL" />
            </geometry>
        </collision>
    </link>
    <gazebo reference="left_dh_finger1_link">
        <implicitSpringDamper>1</implicitSpringDamper>
        <mu1>100000</mu1>
        <mu2>100000</mu2>
        <kp>100000000.0</kp>
        <kd>1.0</kd>
    </gazebo>
    <joint name="left_dh_base_finger1_joint" type="prismatic">
        <origin rpy="0 0 -1.5708" xyz="-0.0184 0.0 0.09325" />
        <parent link="left_dh_base_link" />
        <child link="left_dh_finger1_link" />
        <axis xyz="-1 0 0" />
        <limit effort="30" lower="0" upper="0.04" velocity="0.5" />
    </joint>
    <link name="left_dh_finger2_link">
        <inertial>
            <origin rpy="0 0 0" xyz="0.00194790394990389 0.00918650753677023 0.00947748977599765" />
            <mass value="0.0589543896992846" />
            <inertia ixx="2.37128965154064E-05" ixy="3.83269385718325E-06" ixz="4.94815116549898E-06" iyy="3.37272907966157E-05" iyz="-4.62772008724202E-06" izz="1.98369145830284E-05" />
        </inertial>
        <visual>
            <origin rpy="0 0 0" xyz="0 0 0" />
            <geometry>
                <mesh filename="package://ur_gazebo/meshes/dh_pgi/dh_finger2_link.STL" />
            </geometry>
            <material name="light_grey">
                <color rgba="1 1 1 1" />
            </material>
        </visual>
        <collision>
            <origin rpy="0 0 0" xyz="0 0 0" />
            <geometry>
                <mesh filename="package://ur_gazebo/meshes/dh_pgi/dh_finger2_link.STL" />
            </geometry>
        </collision>
    </link>
    <gazebo reference="left_dh_finger2_link">
        <implicitSpringDamper>1</implicitSpringDamper>
        <mu1>100000</mu1>
        <mu2>100000</mu2>
        <kp>100000000.0</kp>
        <kd>1.0</kd>
    </gazebo>
    <joint name="left_dh_base_finger2_joint" type="prismatic">
        <origin rpy="0 0 1.5708" xyz="0.0184 -0.0 0.09325" />
        <parent link="left_dh_base_link" />
        <child link="left_dh_finger2_link" />
        <axis xyz="-1 0 0" />
        <limit effort="20" lower="0" upper="0.04" velocity="0.5" />
        <mimic joint="left_dh_base_finger1_joint" multiplier="1" offset="0" />
    </joint>
    <link name="left_dh_center_link" />
    <joint name="left_dh_base_center_joint" type="fixed">
        <origin rpy="3.1416 -1.5708 0" xyz="0 0 0.14124" />
        <parent link="left_dh_base_link" />
        <child link="left_dh_center_link" />
        <axis xyz="0 0 0" />
    </joint>
    <link name="left_dh_load1_link" />
    <joint name="left_dh_base_load1_joint" type="fixed">
        <origin rpy="3.1416 -1.5708 0" xyz="-0.030325 0 0.0619" />
        <parent link="left_dh_base_link" />
        <child link="left_dh_load1_link" />
        <axis xyz="0 0 0" />
    </joint>
    <transmission name="left_dh_base_finger1_trans">
        <type>transmission_interface/SimpleTransmission</type>
        <joint name="left_dh_base_finger1_joint">
            <hardwareInterface>hardware_interface/PositionJointInterface</hardwareInterface>
        </joint>
        <actuator name="left_dh_base_finger1_motor">
            <mechanicalReduction>1</mechanicalReduction>
            <hardwareInterface>hardware_interface/PositionJointInterface</hardwareInterface>
        </actuator>
    </transmission>
    <!--libroboticsgroup_gazebo_mimic_joint_plugin.so loading plugin: mimic joints works in gazebo now  libroboticsgroup_upatras_gazebo_mimic_joint_plugin.so-->
    <gazebo>
        <plugin filename="libroboticsgroup_upatras_gazebo_mimic_joint_plugin.so" name="left_mimic_dh_robotics_ag95_1">
            <joint>left_dh_base_finger1_joint</joint>
            <mimicJoint>left_dh_base_finger2_joint</mimicJoint>
            <multiplier>1.0</multiplier>
            <offset>0.0</offset>
        </plugin>
    </gazebo>
    <!-- <gazebo>
        <plugin filename="libroboticsgroup_gazebo_mimic_joint_plugin.so" name="${prefix}mimic_dh_robotics_ag95_1">
            <joint>${prefix}dh_base_finger1_joint</joint>
            <mimicJoint>${prefix}dh_base_finger2_joint</mimicJoint>
            <multiplier>1.0</multiplier>
            <offset>0.0</offset>
        </plugin>
    </gazebo> -->
    <joint name="left_gripper_joint" type="fixed">
        <parent link="left_cylinder_link" />
        <child link="left_dh_base_link" />
        <!-- <origin xyz="0 0 0.031" rpy="0 1.5707963 3.141592653"/> -->
        <origin rpy="0 0 -1.5707963" xyz="0 0 0.03" />
        <!-- <origin xyz="0 0 0.047" rpy="0 1.5707963 3.141592653"/> -->
    </joint>
    <link name="right_tool_base_link">
        <inertial>
            <origin rpy="0 0 0" xyz="-0.01085 4.4441E-09 0.01005" />
            <mass value="0.021763" />
            <inertia ixx="8.355E-06" ixy="2.7897E-14" ixz="1.1022E-06" iyy="4.1504E-06" iyz="2.4783E-13" izz="7.7133E-06" />
        </inertial>
        <visual>
            <origin rpy="0 0 0" xyz="0 0 0" />
            <geometry>
                <mesh filename="package://ur_gazebo/meshes/tool_camera/tool_base_link.STL" />
            </geometry>
            <material name="">
                <color rgba="1 1 1 1" />
            </material>
        </visual>
        <collision>
            <origin rpy="0 0 0" xyz="0 0 0" />
            <geometry>
                <mesh filename="package://ur_gazebo/meshes/tool_camera/tool_base_link.STL" />
            </geometry>
        </collision>
    </link>
    <link name="right_tool_camera_base_link" />
    <joint name="right_tool_base_camera_base_joint" type="fixed">
        <origin rpy="0 0 0" xyz="-0.017 0 0.0305" />
        <parent link="right_tool_base_link" />
        <child link="right_tool_camera_base_link" />
        <axis xyz="0 0 0" />
    </joint>
    <joint name="right_tool_camera_joint" type="fixed">
        <parent link="right_dh_load1_link" />
        <child link="right_tool_base_link" />
        <origin rpy="3.141592653 0 0" xyz="0 0 0" />
    </joint>
    <link name="left_tool_base_link">
        <inertial>
            <origin rpy="0 0 0" xyz="-0.01085 4.4441E-09 0.01005" />
            <mass value="0.021763" />
            <inertia ixx="8.355E-06" ixy="2.7897E-14" ixz="1.1022E-06" iyy="4.1504E-06" iyz="2.4783E-13" izz="7.7133E-06" />
        </inertial>
        <visual>
            <origin rpy="0 0 0" xyz="0 0 0" />
            <geometry>
                <mesh filename="package://ur_gazebo/meshes/tool_camera/tool_base_link.STL" />
            </geometry>
            <material name="">
                <color rgba="1 1 1 1" />
            </material>
        </visual>
        <collision>
            <origin rpy="0 0 0" xyz="0 0 0" />
            <geometry>
                <mesh filename="package://ur_gazebo/meshes/tool_camera/tool_base_link.STL" />
            </geometry>
        </collision>
    </link>
    <link name="left_tool_camera_base_link" />
    <joint name="left_tool_base_camera_base_joint" type="fixed">
        <origin rpy="0 0 0" xyz="-0.017 0 0.0305" />
        <parent link="left_tool_base_link" />
        <child link="left_tool_camera_base_link" />
        <axis xyz="0 0 0" />
    </joint>
    <joint name="left_tool_camera_joint" type="fixed">
        <parent link="left_dh_load1_link" />
        <child link="left_tool_base_link" />
        <origin rpy="3.141592653 0 0" xyz="0 0 0" />
    </joint>
    <transmission name="trans_right_dh_base_finger2_joint">
        <type>transmission_interface/SimpleTransmission</type>
        <joint name="right_dh_base_finger2_joint">
            <hardwareInterface>hardware_interface/EffortJointInterface</hardwareInterface>
        </joint>
        <actuator name="right_dh_base_finger2_joint_motor">
            <hardwareInterface>hardware_interface/EffortJointInterface</hardwareInterface>
            <mechanicalReduction>1</mechanicalReduction>
        </actuator>
    </transmission>
    <transmission name="trans_left_dh_base_finger2_joint">
        <type>transmission_interface/SimpleTransmission</type>
        <joint name="left_dh_base_finger2_joint">
            <hardwareInterface>hardware_interface/EffortJointInterface</hardwareInterface>
        </joint>
        <actuator name="left_dh_base_finger2_joint_motor">
            <hardwareInterface>hardware_interface/EffortJointInterface</hardwareInterface>
            <mechanicalReduction>1</mechanicalReduction>
        </actuator>
    </transmission>
</robot>
